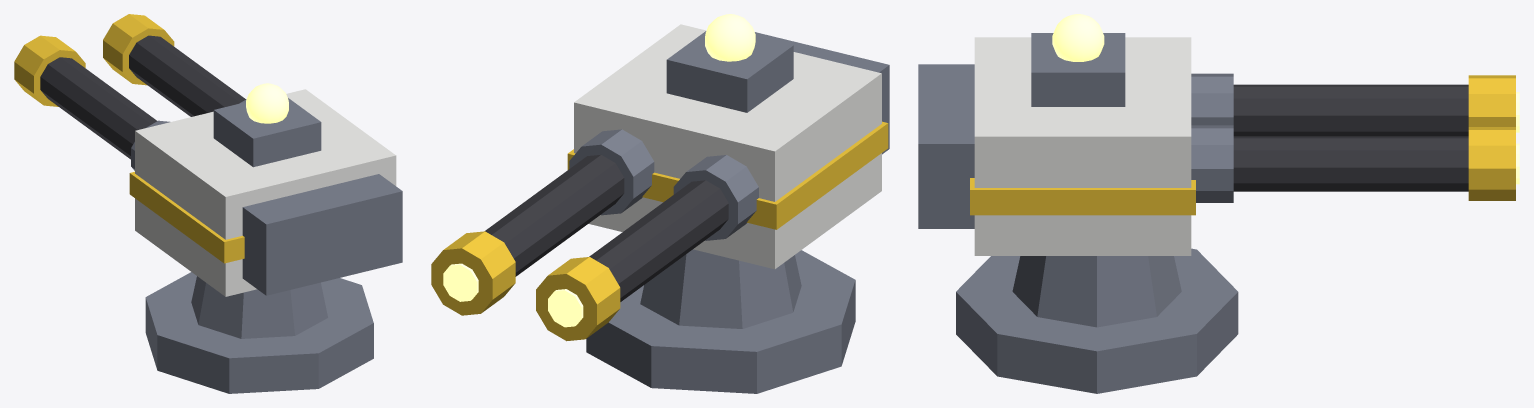
File: StationGun.fbx
The picture shows the model from 3 angles, left to right: view 1: azimuth 30°, elevation 25°; view 2: azimuth 150°, elevation 25°; view 3: azimuth 270°, elevation 25°; orthographic projection. The views are drawn at different scales.
Parts seen in each view (by area): view 1: StationGun; view 2: StationGun; view 3: StationGun.
Part boxes in pixels (left/top/right/bottom): StationGun: left=14, top=14, right=402, bottom=393; StationGun: left=431, top=14, right=889, bottom=393; StationGun: left=918, top=14, right=1519, bottom=393.
Bounding box in the file's own units: 3 × 3.73 × 6.39.
